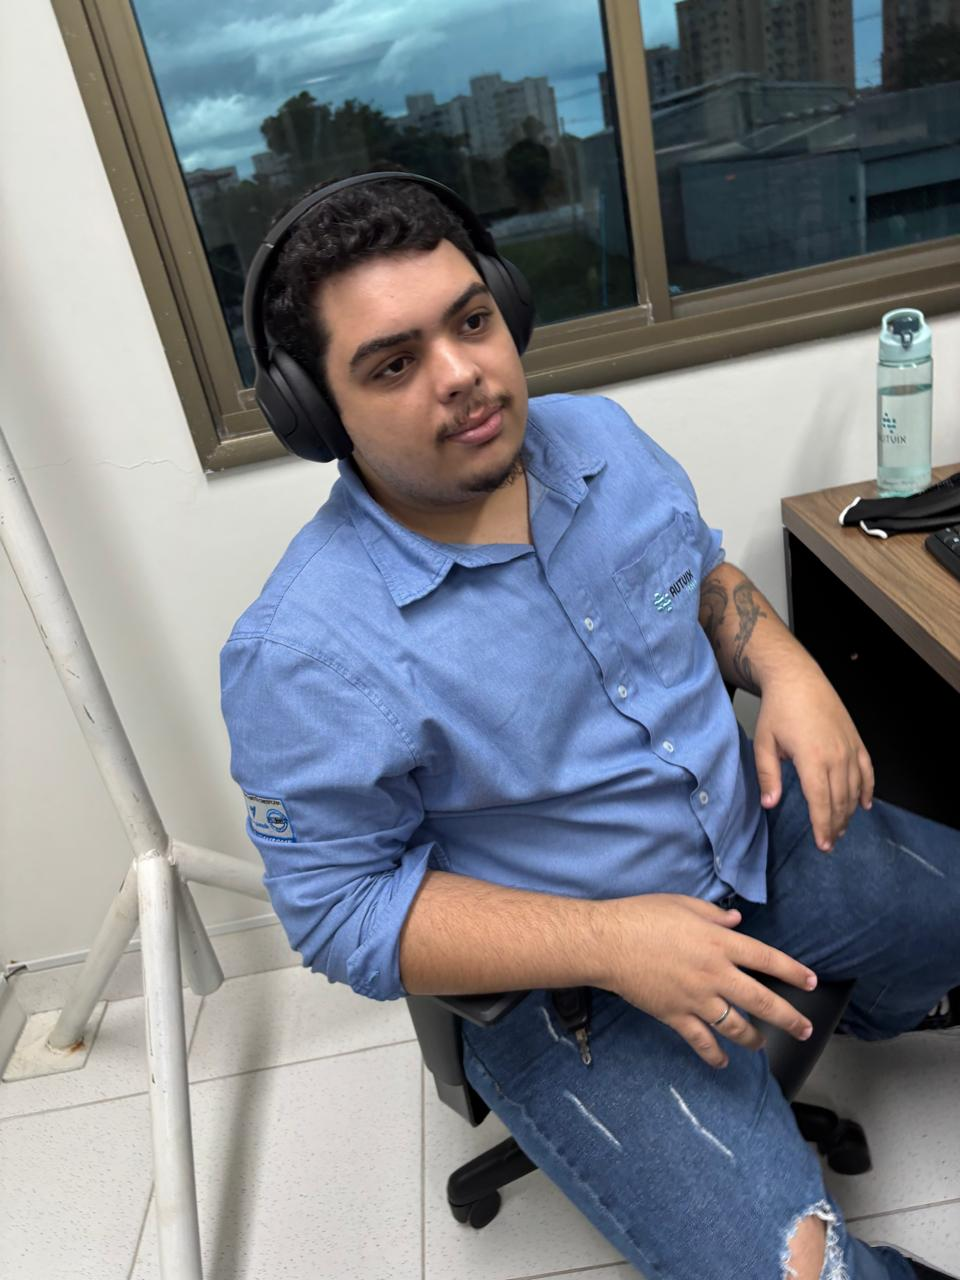no-gloves: (616, 879, 830, 1068), (754, 680, 879, 858)
